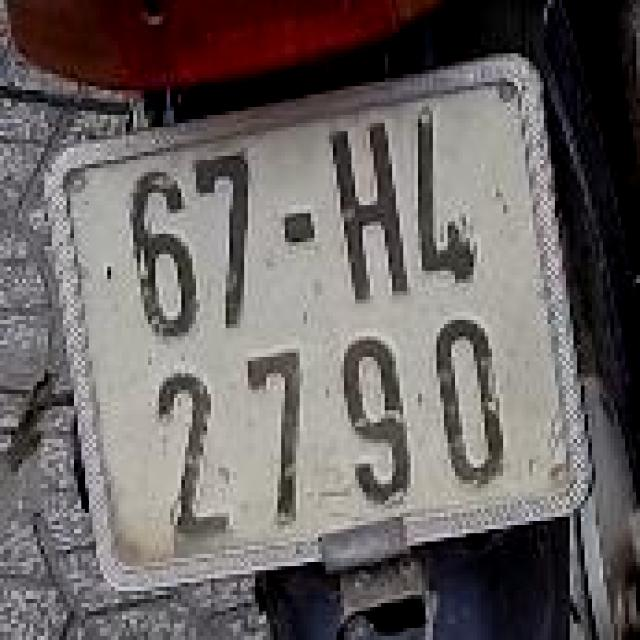0: (410, 295, 552, 522)
2: (140, 346, 244, 578)
4: (401, 90, 488, 310)
6: (110, 155, 209, 360)
7: (185, 134, 276, 358), (240, 333, 324, 554)
9: (327, 310, 439, 549)
H: (317, 109, 424, 341)
